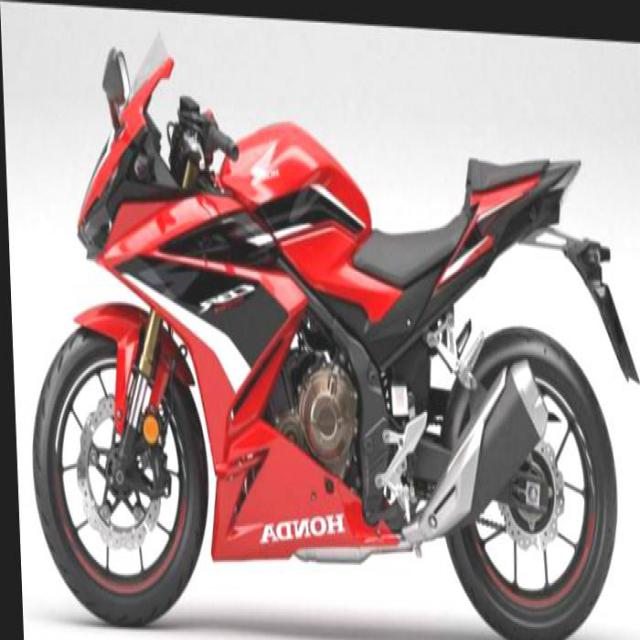CBR500R: (14, 18, 639, 638)
